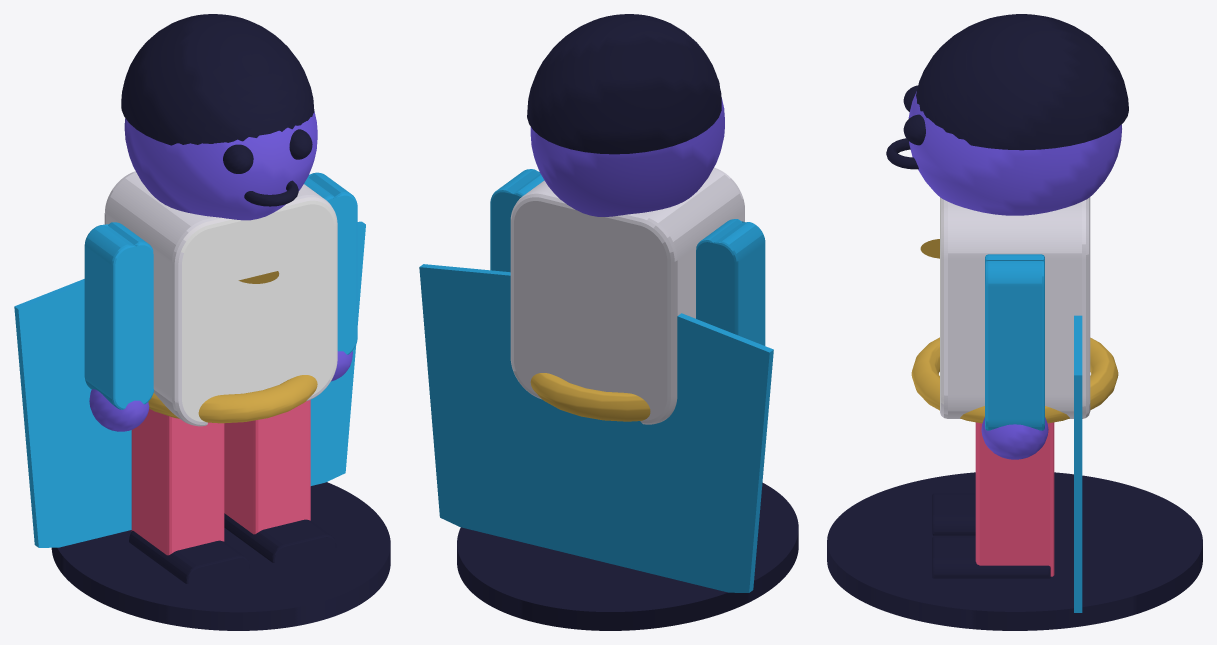
3 views of the same model, side by side, from view 1: azimuth 30°, elevation 25°; view 2: azimuth 150°, elevation 25°; view 3: azimuth 270°, elevation 25° (orthographic).
Parts seen in each view (by area): view 1: card_0696; view 2: card_0696; view 3: card_0696.
Boxes of the visible parts, x1,y1,x2,y2 form: card_0696: (14,14,390,630); card_0696: (419,14,798,630); card_0696: (827,14,1202,630).
Size of the model in its own units: 0.67 by 1 by 0.6163.
